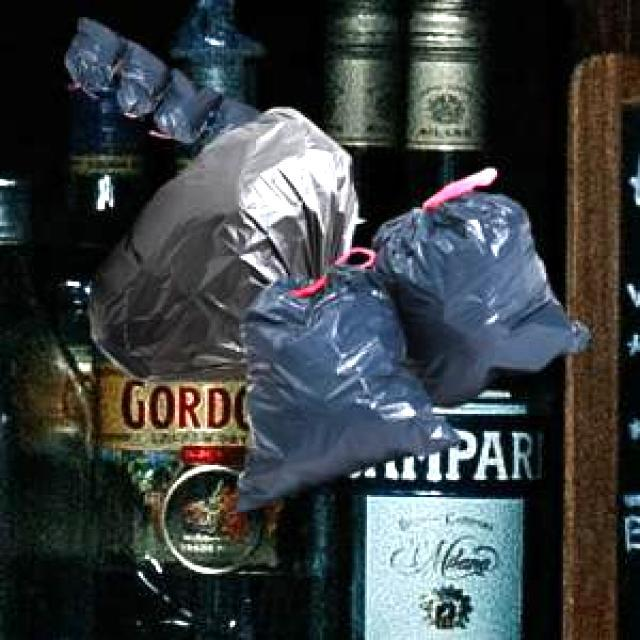Garbage_Bag: (229, 165, 592, 510), (87, 106, 356, 380), (62, 16, 262, 144)
